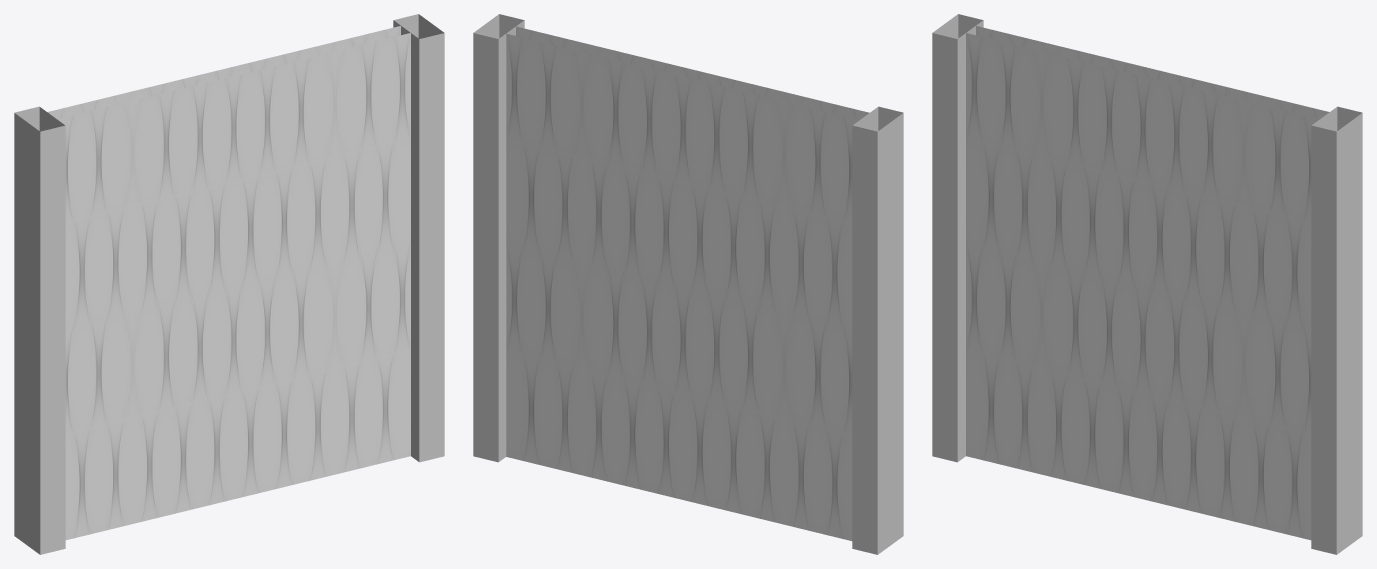
Rendered from Wall_Waves.fbx.
The picture shows the model from 3 angles, left to right: view 1: azimuth 30°, elevation 25°; view 2: azimuth 150°, elevation 25°; view 3: azimuth 330°, elevation 25°; orthographic projection.
Parts seen in each view (by area): view 1: Wall_Waves01; view 2: Wall_Waves01; view 3: Wall_Waves01.
Part boxes in pixels (<box>): Wall_Waves01: <box>14,14,444,554</box>; Wall_Waves01: <box>473,14,903,554</box>; Wall_Waves01: <box>932,14,1362,554</box>.
Bounding box in the file's own units: 3.66 × 3.66 × 0.4064.
